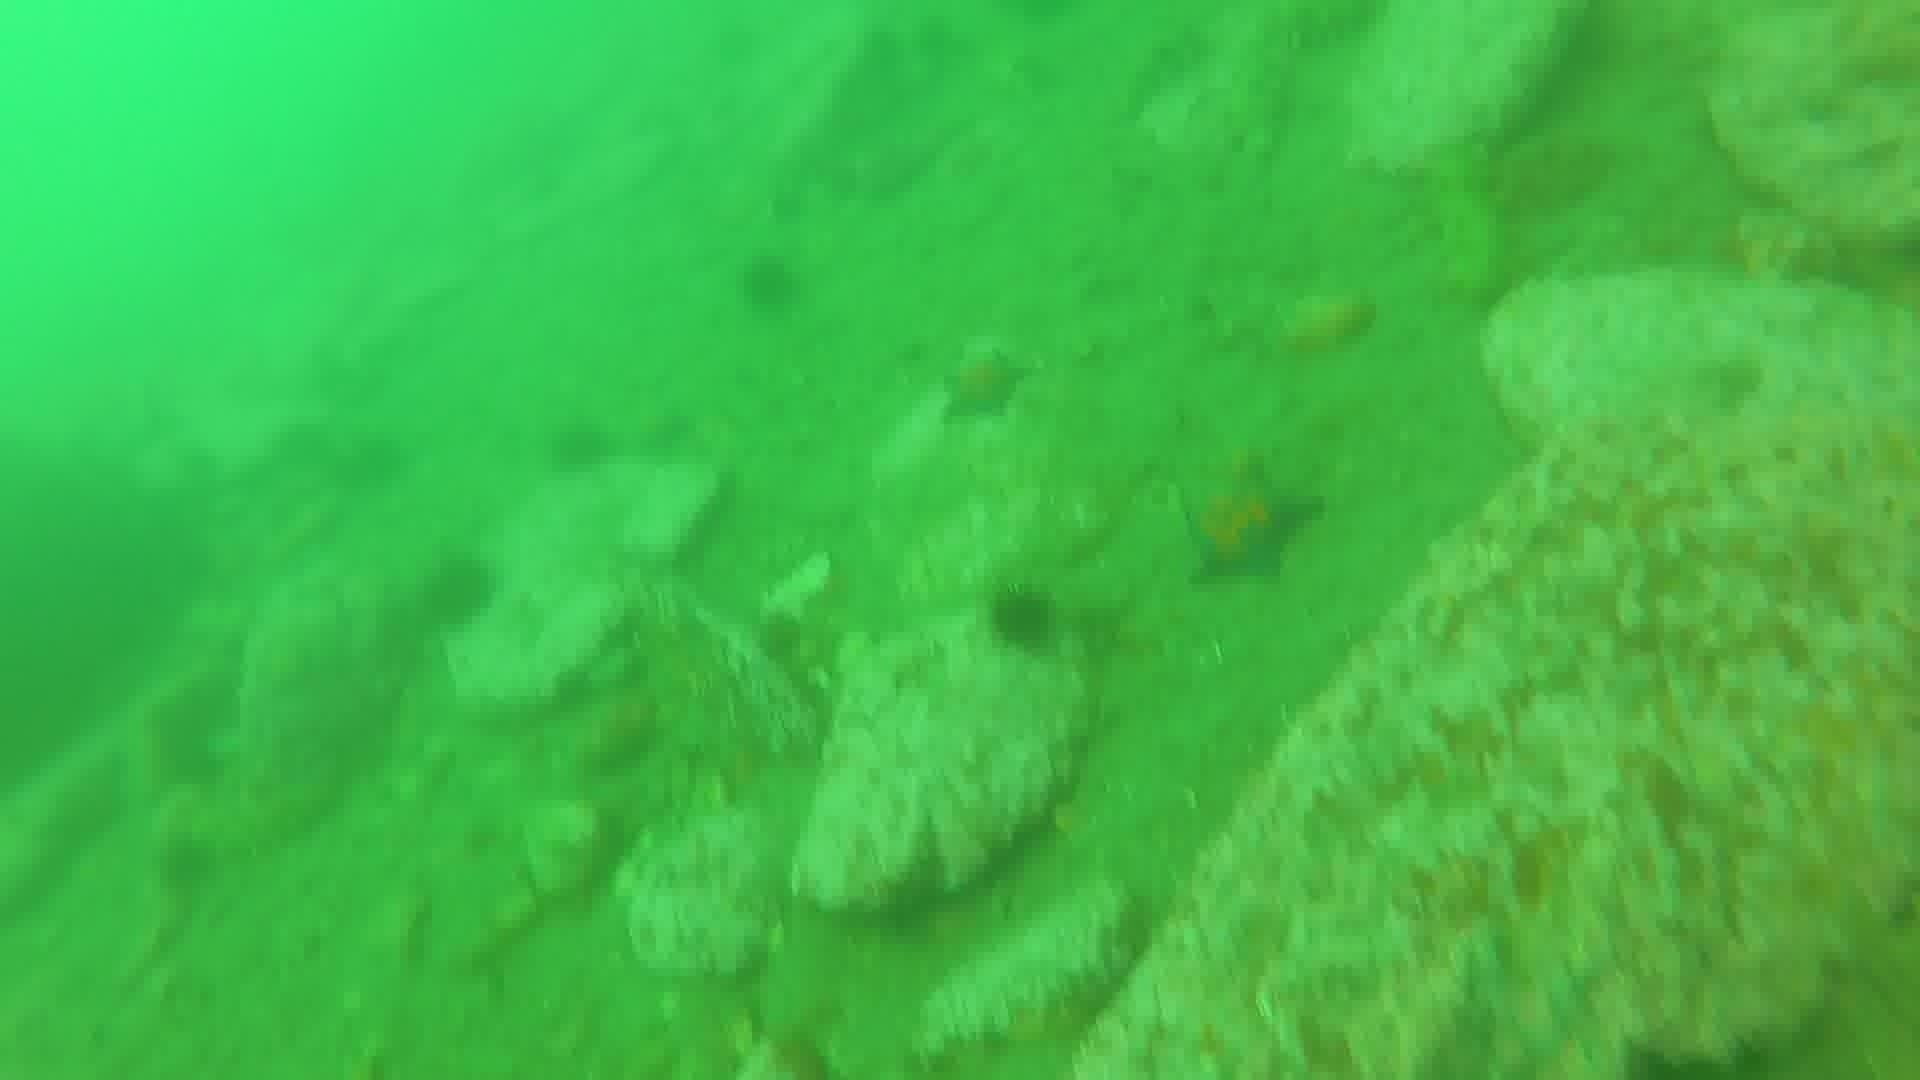echinus: (413, 550, 502, 633), (981, 580, 1065, 657), (733, 249, 807, 318), (543, 414, 617, 477)
holothurian: (1259, 1, 1393, 59)
starfish: (1174, 455, 1325, 589), (934, 342, 1036, 427)
